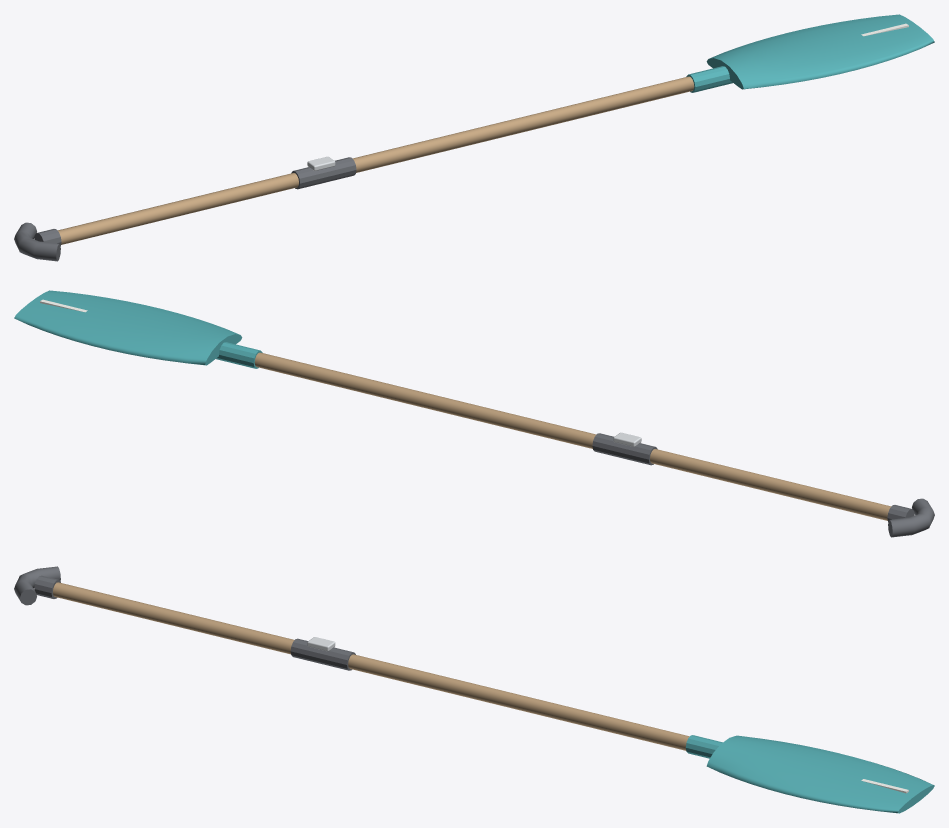
Rendered from beach-surf-and-paddle-kit-stand-up-paddle-38519c37__39427.glb.
3 renders of one model, top to bottom at view 1: azimuth 30°, elevation 25°; view 2: azimuth 150°, elevation 25°; view 3: azimuth 330°, elevation 25°, orthographic.
Parts seen in each view (by area): view 1: stand-up-paddle-teal, stand-up-paddle-timber, stand-up-paddle-charcoal; view 2: stand-up-paddle-teal, stand-up-paddle-timber, stand-up-paddle-charcoal; view 3: stand-up-paddle-teal, stand-up-paddle-timber, stand-up-paddle-charcoal.
Boxes of the visible parts, x1=… form: stand-up-paddle-teal: x1=686, y1=14, x2=934, y2=92; stand-up-paddle-timber: x1=57, y1=76, x2=694, y2=244; stand-up-paddle-charcoal: x1=14, y1=157, x2=356, y2=261; stand-up-paddle-teal: x1=14, y1=290, x2=262, y2=368; stand-up-paddle-timber: x1=254, y1=352, x2=891, y2=520; stand-up-paddle-charcoal: x1=592, y1=433, x2=934, y2=537; stand-up-paddle-teal: x1=685, y1=735, x2=934, y2=813; stand-up-paddle-timber: x1=52, y1=582, x2=689, y2=750; stand-up-paddle-charcoal: x1=14, y1=566, x2=355, y2=670.
Size of the model in its own units: 2.07 by 0.048 by 0.2195.
